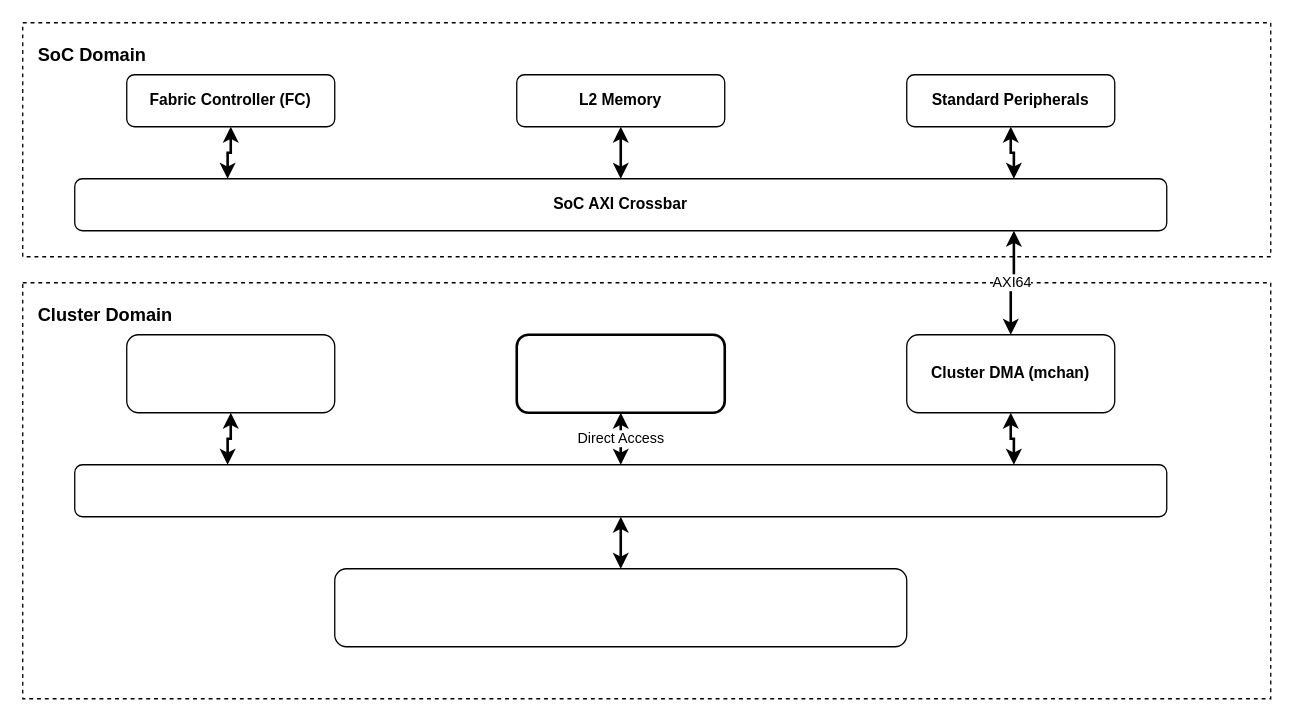
The diagram is 1294 pixels wide and 722 high, and some of its shapes have lost their labels. Each missing label, with the centre of its shape:
Cluster Cores (PEs): (230,373)
FFT Accelerator (TCDM Master / HWPE): (620,373)
TCDM Logarithmic Interconnect: (620,490)
TCDM Memory Banks (Shared L1): (620,607)
